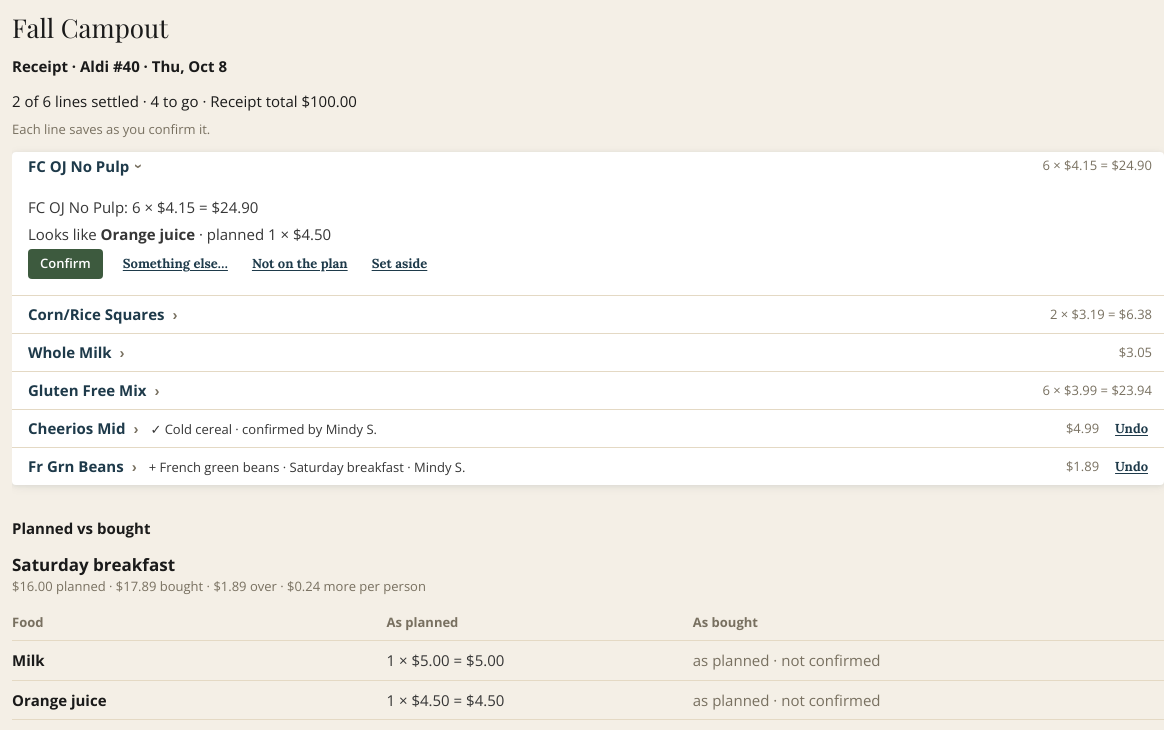
Test: Receipt — the lines, one at a time › Confirm_CollapsesTheRow_AndMovesFocusToTheNextPending
Click the button "Confirm". click: (65, 264)
box: [28,249,103,279]
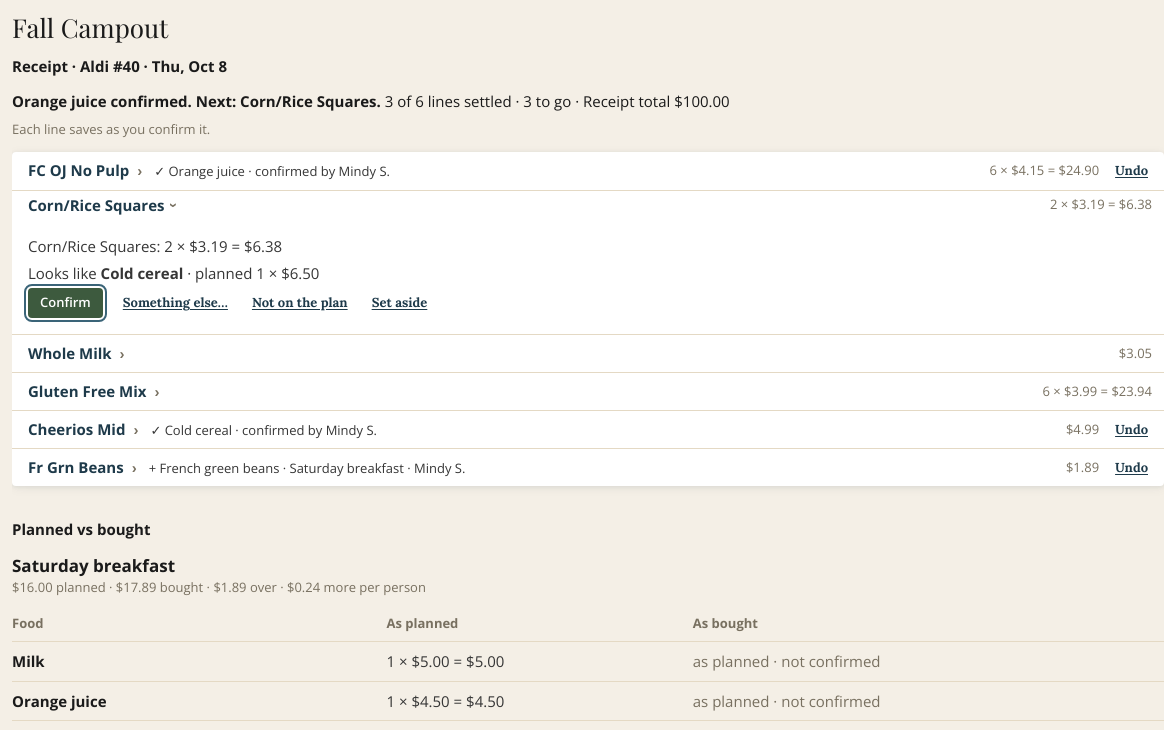
expect the button "FC OJ No Pulp ›" is collapsed: met, box [28,159,142,182]
expect the message shows "Orange juice confirmed. Next: Corn/Rice Squares.": met, box [12,91,381,111]
